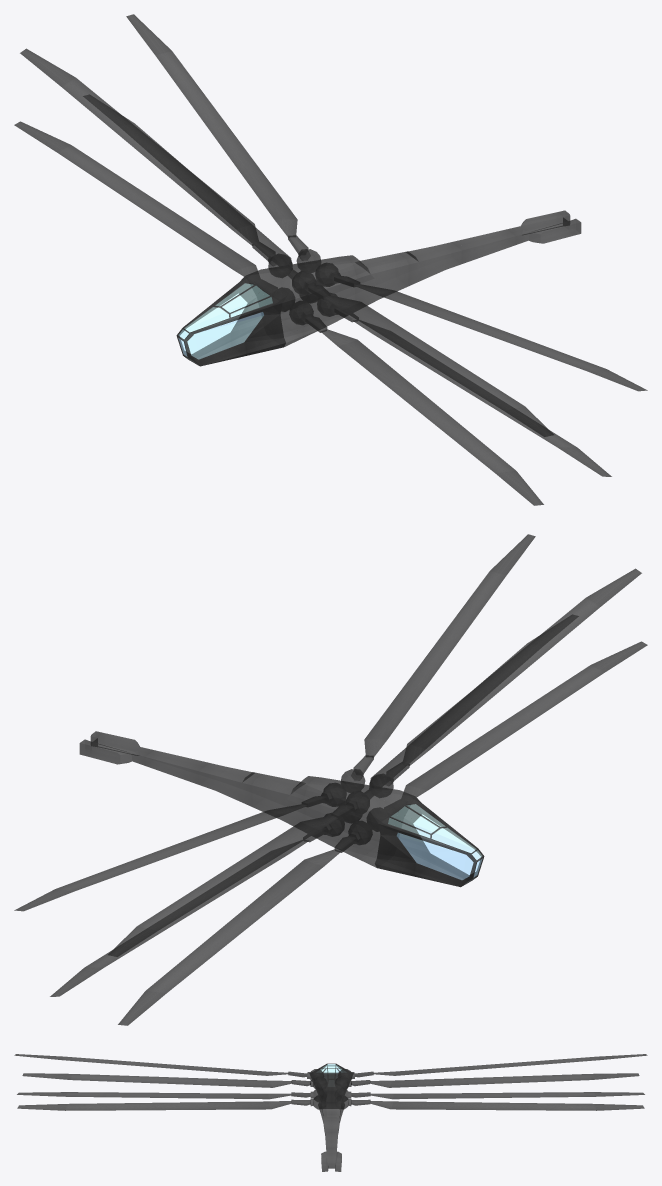
The model's file is ornithopter.fbx.
3 renders of one model, top to bottom at view 1: azimuth 30°, elevation 25°; view 2: azimuth 150°, elevation 25°; view 3: azimuth 270°, elevation 25°, orthographic. The views are drawn at different scales.
Visible parts, largest first — view 1: Plane, Plane.005, Plane.008, Plane.004, Plane.006, Plane.001, Plane.003, Plane.002, Plane.007; view 2: Plane, Plane.001, Plane.002, Plane.006, Plane.004, Plane.005, Plane.007, Plane.008, Plane.003; view 3: Plane.003, Plane, Plane.007, Plane.002, Plane.008, Plane.004, Plane.006, Plane.001, Plane.005.
Part boxes in pixels (box(x1,y1,x2,y2)): Plane: box(176, 210, 581, 366); Plane.005: box(20, 48, 292, 277); Plane.008: box(126, 14, 321, 272); Plane.004: box(289, 301, 543, 505); Plane.006: box(14, 121, 295, 311); Plane.001: box(292, 271, 553, 436); Plane.003: box(317, 293, 611, 476); Plane.002: box(315, 262, 647, 391); Plane.007: box(83, 95, 319, 303); Plane: box(79, 731, 484, 887); Plane.001: box(369, 568, 641, 797); Plane.002: box(340, 534, 535, 792); Plane.006: box(118, 821, 372, 1025); Plane.004: box(366, 641, 647, 831); Plane.005: box(108, 791, 369, 956); Plane.007: box(50, 813, 344, 996); Plane.008: box(14, 782, 346, 911); Plane.003: box(342, 615, 578, 823); Plane.003: box(17, 1095, 326, 1110); Plane: box(310, 1063, 353, 1171); Plane.007: box(335, 1095, 644, 1110); Plane.002: box(22, 1073, 326, 1090); Plane.008: box(335, 1073, 639, 1090); Plane.004: box(17, 1089, 327, 1101); Plane.006: box(334, 1090, 644, 1101); Plane.001: box(14, 1054, 323, 1080); Plane.005: box(338, 1054, 647, 1080).
Size of the model in its own units: 91.66 by 25.57 by 213.
